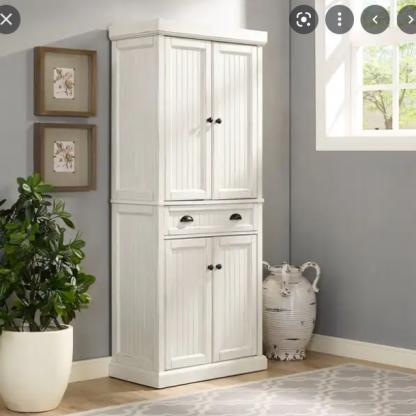Cupboard: (106, 14, 269, 391)
